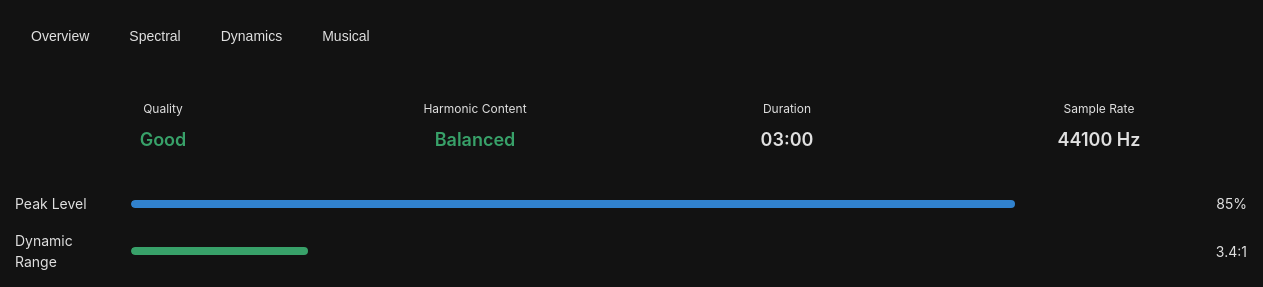
Scenario: AudioAnalysisDisplay Component › switches to musical tab when clicked
Click the button "Musical".
click(346, 36)  # box [306,16,386,56]
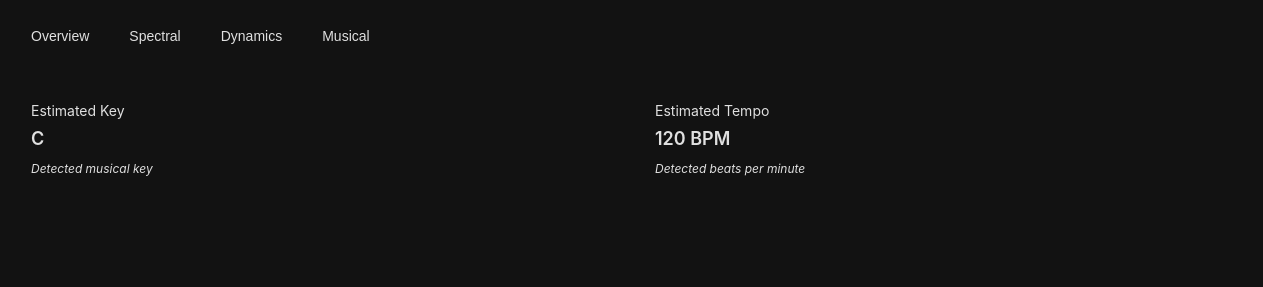
Result: the text "Estimated Key" is shown at [31,102,125,119]
Result: the text "Estimated Tempo" is shown at [655,102,769,119]
